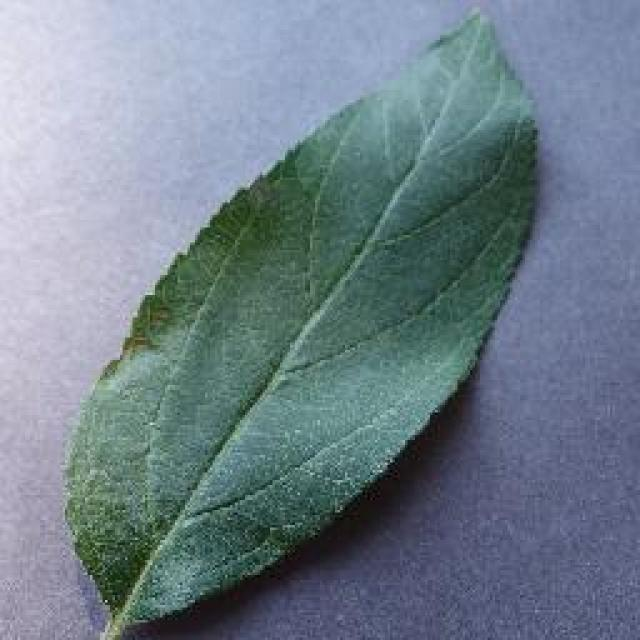apple healthy: (60, 5, 542, 637)
